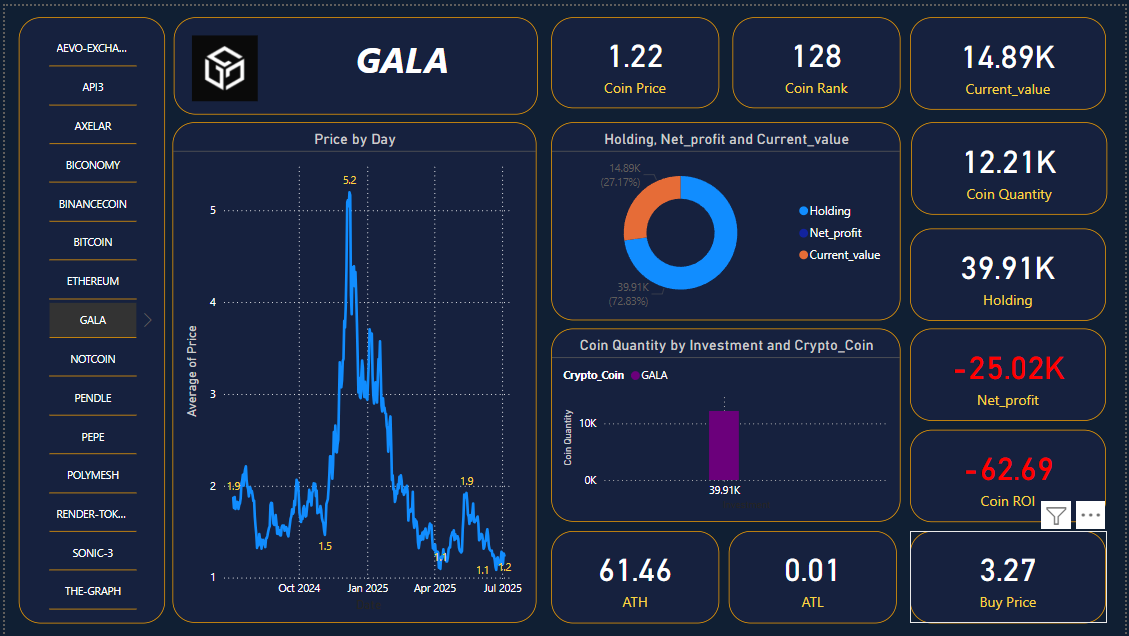

Layout of this report page (visuals, bound fields, positions):
{"tool":"powerbi","page":{"name":"Coin Details","canvas":[1280,720],"ordinal":1},"visuals":[{"type":"slicer","fields":{"Values":["Portfolio.Crypto_Coin"]},"box":[15.7,12.9,167.1,692.9],"z":0},{"type":"card","fields":{"Values":["Portfolio.Coin Price"]},"box":[624.4,12.3,192.1,104.3],"z":1000},{"type":"card","fields":{"Values":["Portfolio.ATH"]},"box":[624.4,599.7,192.1,105.7],"z":2000},{"type":"card","fields":{"Values":["Portfolio.Coin Quantity"]},"box":[1035.7,132.9,224.3,105.7],"z":3000},{"type":"card","fields":{"Values":["Portfolio.ATL"]},"box":[827.4,599.7,192.1,105.7],"z":4000},{"type":"card","fields":{"Values":["Portfolio.Coin ROI"]},"box":[1034.3,484.3,224.3,105.7],"z":5000},{"type":"card","fields":{"Values":["Portfolio.Holding"]},"box":[1034.3,254.3,224.3,105.7],"z":6000},{"type":"card","fields":{"Values":["Portfolio.Net_Profit"]},"box":[1034.3,12.9,224.3,105.7],"z":7000},{"type":"card","fields":{"Values":["Portfolio.Net_profit"]},"box":[1034.3,368.6,224.3,105.7],"z":8000},{"type":"lineChart","title":" Price by Day","fields":{"Category":["Historical coin data.Date"],"Y":["Avg(Historical coin data.Price)"]},"box":[192.1,133.1,415.8,572.2],"z":9000},{"type":"ribbonChart","fields":{"Y":["Portfolio.Coin Quantity"],"Series":["Portfolio.Crypto_Coin"],"Category":["Portfolio.Investment"]},"box":[624.4,369.1,399.3,220.9],"z":10000},{"type":"donutChart","title":"Holding, Net_profit and Current_value","fields":{"Y":["Portfolio.Holding","Portfolio.Net_profit","Portfolio.Current_value"]},"box":[624.4,133.1,399.3,226.4],"z":11000},{"type":"card","fields":{"Values":["Portfolio.Buy Price"]},"box":[1034.3,600,224.3,105.7],"z":12000},{"type":"card","fields":{"Values":["Portfolio.Coin Rank"]},"box":[831.6,12.3,192.1,104.3],"z":13000},{"type":"multiRowCard","fields":{"Values":["Crypto_coin data.image1","Portfolio.Coin Name"]},"box":[193.5,12.3,415.8,111.1],"z":14000},{"type":"actionButton","box":[290,32.9,100,64.3],"z":15000}]}

Visuals, with their boxes in screenshot pixels (x1, y1, x2, y2), scaled from the page's 1280x720 canvas onto the 1129x636 screenshot:
slicer - Portfolio.Crypto_Coin: pyautogui.locateOnScreen(14, 11, 161, 623)
card - Portfolio.Coin Price: pyautogui.locateOnScreen(551, 11, 720, 103)
card - Portfolio.ATH: pyautogui.locateOnScreen(551, 530, 720, 623)
card - Portfolio.Coin Quantity: pyautogui.locateOnScreen(914, 117, 1111, 211)
card - Portfolio.ATL: pyautogui.locateOnScreen(730, 530, 899, 623)
card - Portfolio.Coin ROI: pyautogui.locateOnScreen(912, 428, 1110, 521)
card - Portfolio.Holding: pyautogui.locateOnScreen(912, 225, 1110, 318)
card - Portfolio.Net_Profit: pyautogui.locateOnScreen(912, 11, 1110, 105)
card - Portfolio.Net_profit: pyautogui.locateOnScreen(912, 326, 1110, 419)
" Price by Day" lineChart: pyautogui.locateOnScreen(169, 118, 536, 623)
ribbonChart - Portfolio.Coin Quantity x Portfolio.Crypto_Coin: pyautogui.locateOnScreen(551, 326, 903, 521)
"Holding, Net_profit and Current_value" donutChart: pyautogui.locateOnScreen(551, 118, 903, 318)
card - Portfolio.Buy Price: pyautogui.locateOnScreen(912, 530, 1110, 623)
card - Portfolio.Coin Rank: pyautogui.locateOnScreen(733, 11, 903, 103)
multiRowCard - Crypto_coin data.image1 x Portfolio.Coin Name: pyautogui.locateOnScreen(171, 11, 537, 109)
actionButton: pyautogui.locateOnScreen(256, 29, 344, 86)
